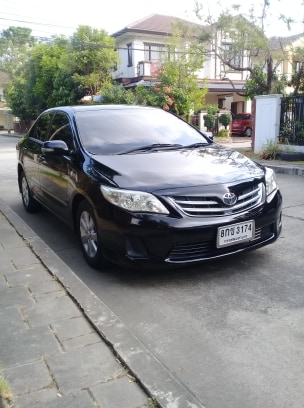sedan: (16, 103, 286, 274)
